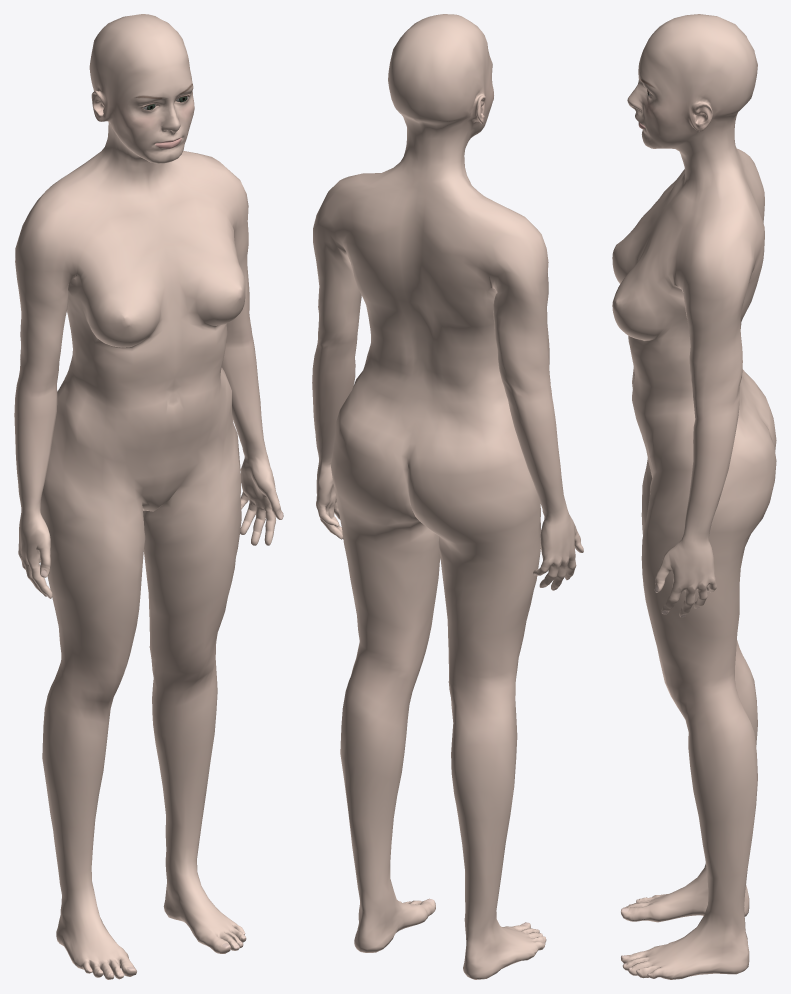
Rendered from woman_north_v4.glb.
3 views of the same model, side by side, from view 1: azimuth 30°, elevation 25°; view 2: azimuth 150°, elevation 25°; view 3: azimuth 270°, elevation 25° (orthographic).
Parts seen in each view (by area): view 1: basemesh_female_body, face_blink; view 2: basemesh_female_body; view 3: basemesh_female_body, face_blink.
Part boxes in pixels (x1,y1,x2,y2): basemesh_female_body: (14,14,283,979); face_blink: (106,59,194,137); basemesh_female_body: (312,14,583,979); basemesh_female_body: (612,14,776,979); face_blink: (627,55,692,129).
Bounding box in the file's own units: 0.4951 × 1.77 × 0.2838.
Materials: 3 (2 with a texture image).
